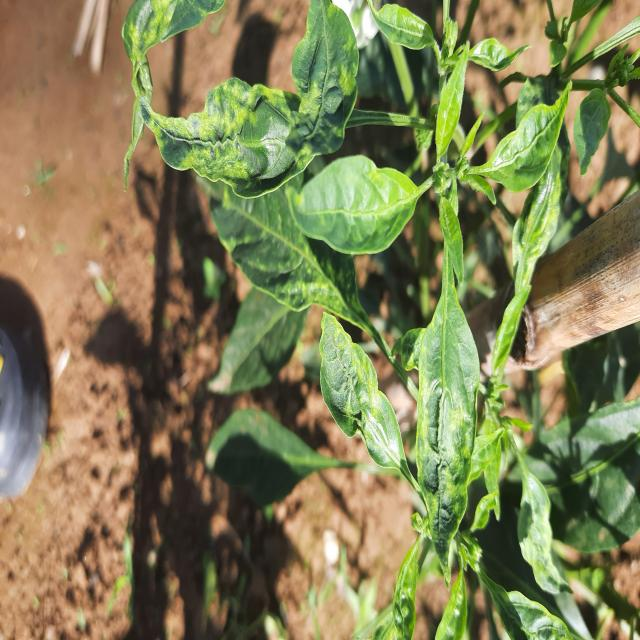thrips: (134, 74, 338, 196), (314, 300, 404, 481), (276, 0, 363, 156)
